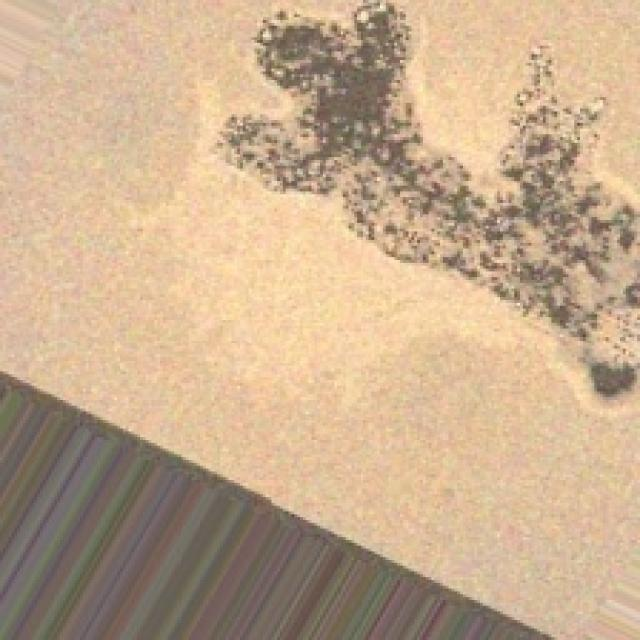Amoeba: (220, 0, 640, 414)
